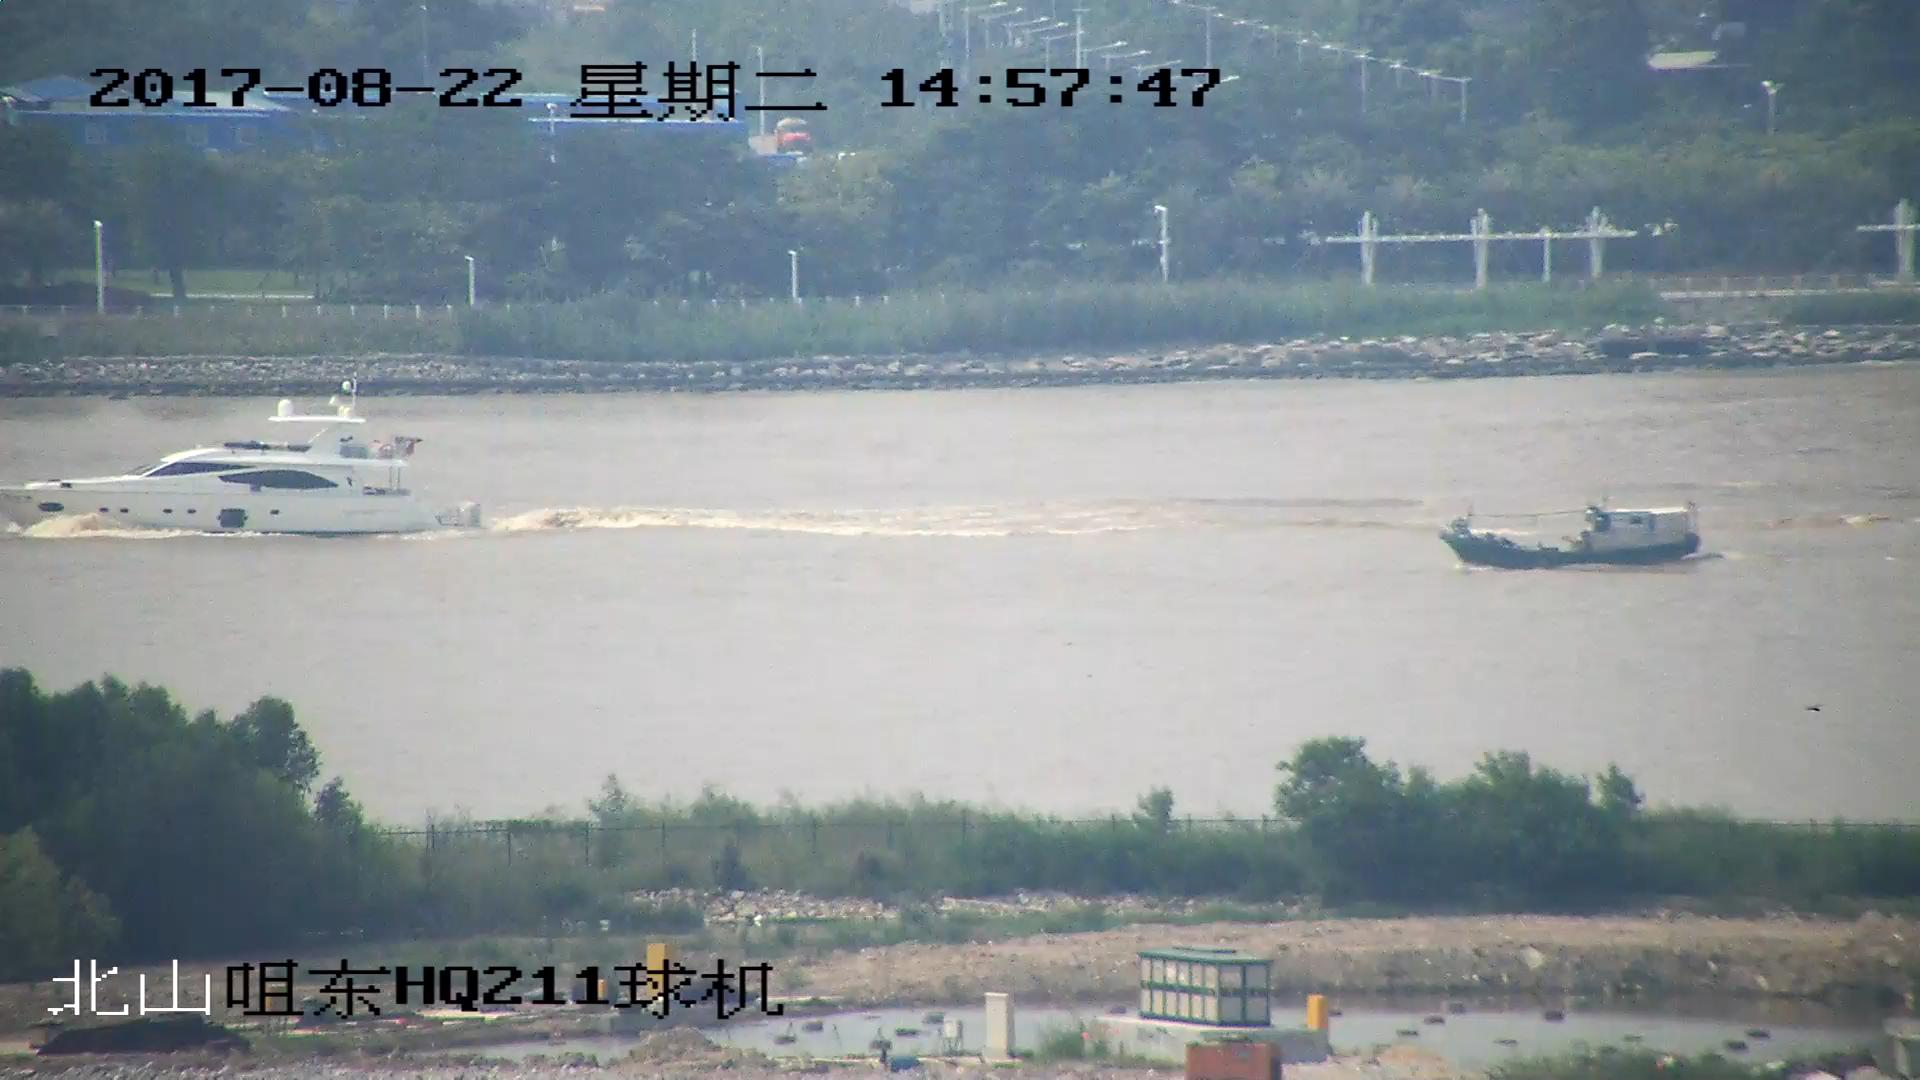fishing boat: (1446, 499, 1706, 577)
passenger ship: (1, 386, 470, 543)
